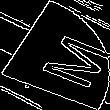M_NW: (11, 23, 99, 87)
